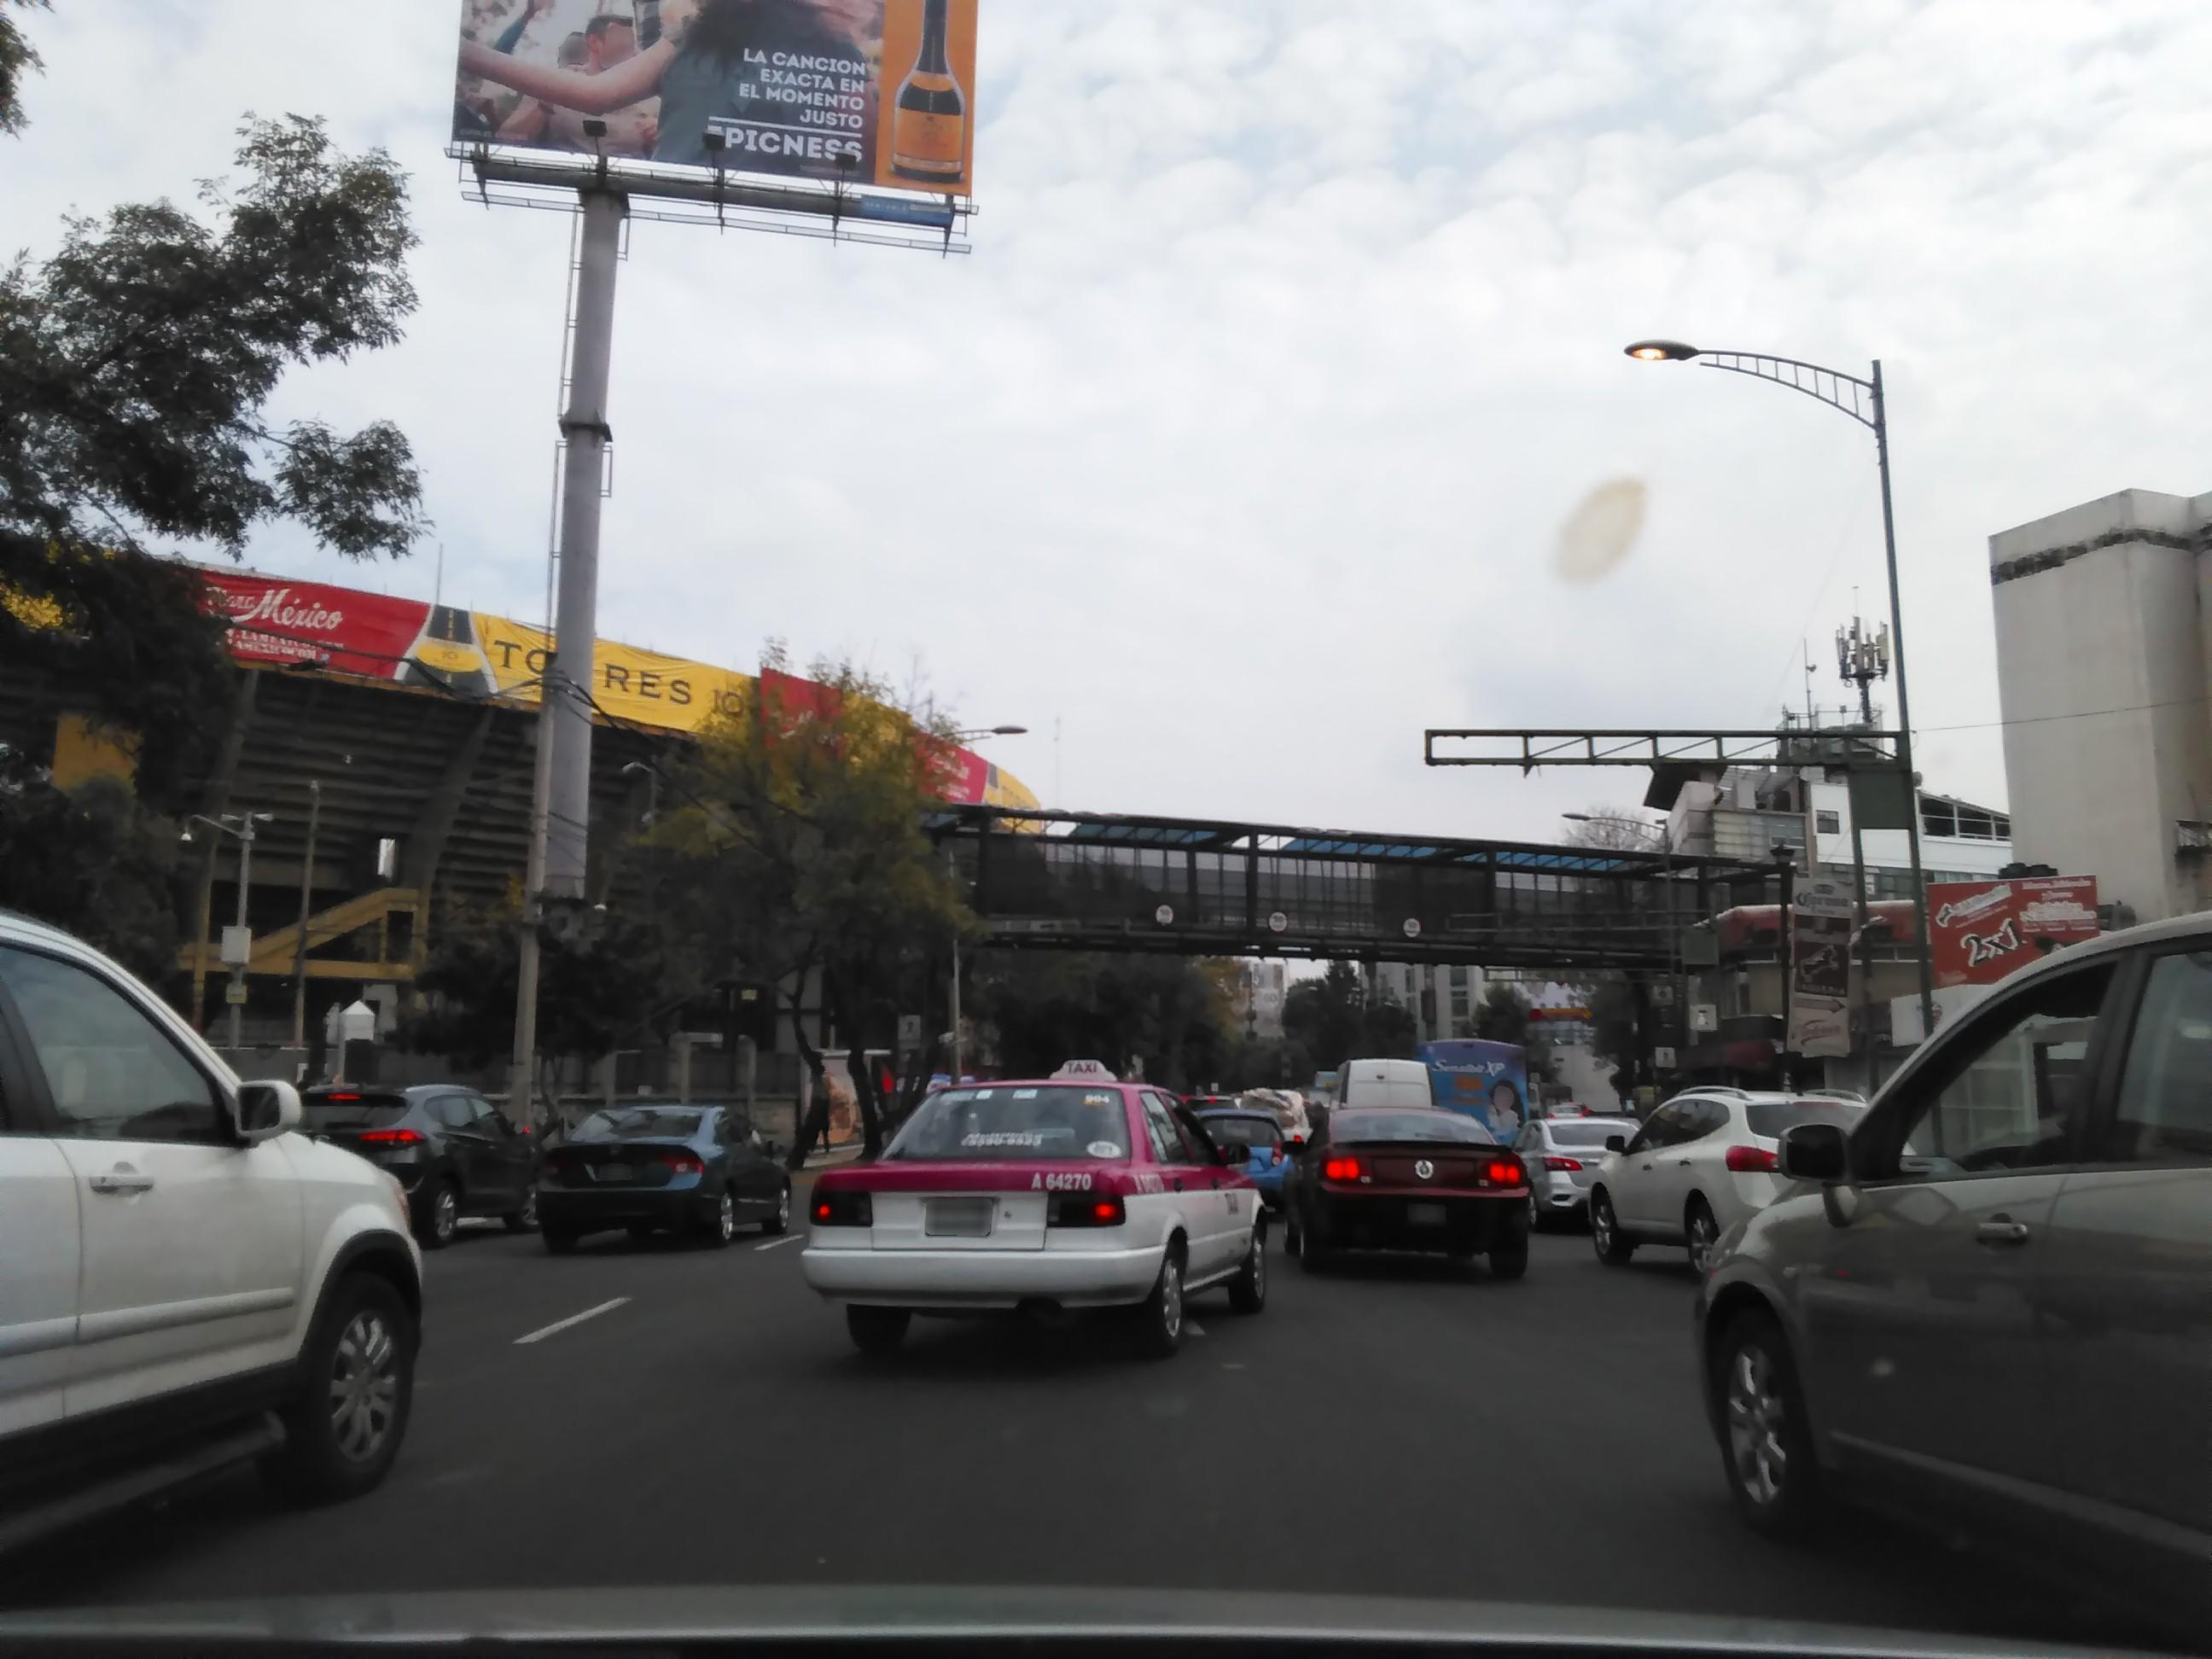vinyl banner: (192, 545, 754, 770)
